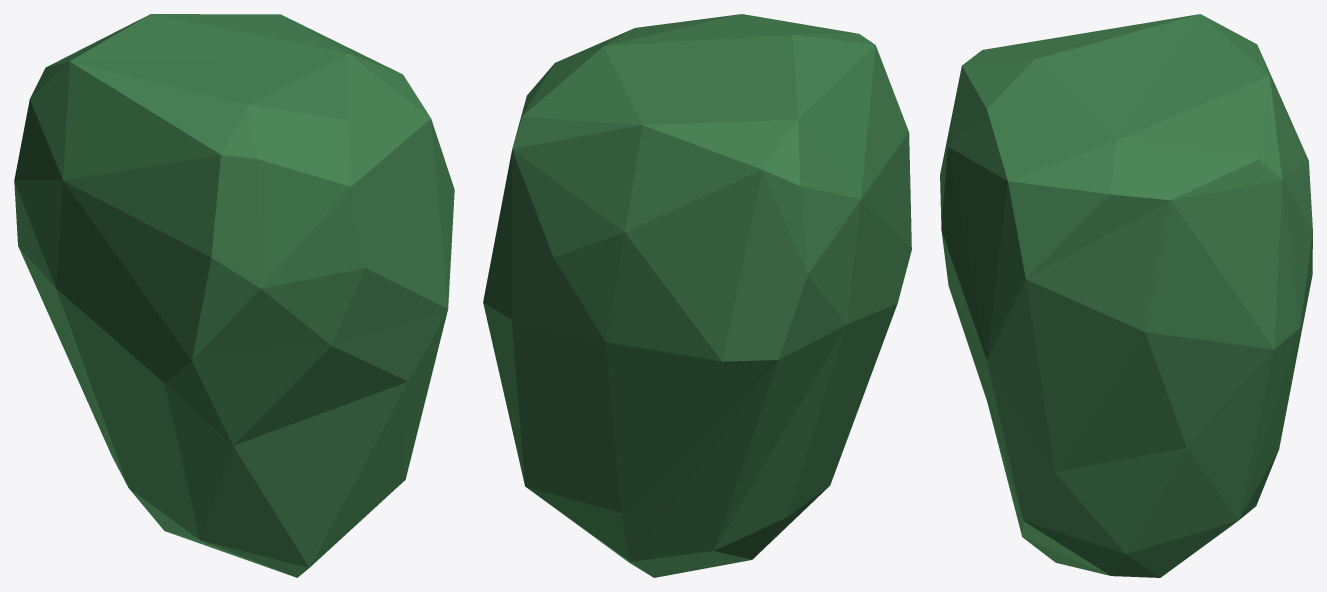
Rendered from SM_Env_Bush_03-optimized.glb.
The picture shows the model from 3 angles, left to right: view 1: azimuth 30°, elevation 25°; view 2: azimuth 150°, elevation 25°; view 3: azimuth 270°, elevation 25°; orthographic projection. The views are drawn at different scales.
Parts seen in each view (by area): view 1: SM_Env_Bush_03; view 2: SM_Env_Bush_03; view 3: SM_Env_Bush_03.
Boxes of the visible parts, x1,y1,x2,y2 form: SM_Env_Bush_03: (14,14,454,577); SM_Env_Bush_03: (483,14,911,577); SM_Env_Bush_03: (940,14,1312,577).
Size of the model in its own units: 1.06 by 1.52 by 1.08.
